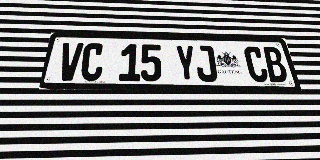1: (119, 44, 141, 81)
5: (141, 44, 162, 81)
B: (261, 47, 289, 82)
C: (79, 43, 105, 81), (243, 46, 270, 82)
J: (194, 45, 218, 82)
V: (56, 43, 84, 81)
Y: (175, 45, 197, 82)
